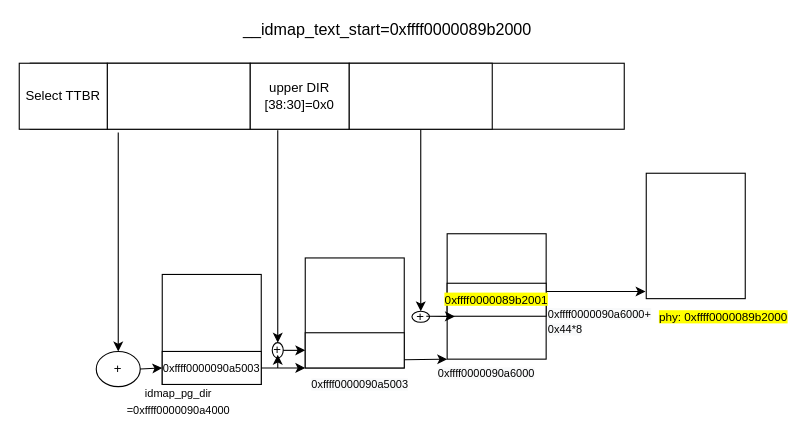
This 809x442 diagram has some shape labels left out. The centre of each missing label's shape, as x and y in pixels:
0x ffff0000090a6003: the point at 354,350
global DIR [47:39]=0x0: the point at 178,95
pmd DIR [29:21]=0x44: the point at 420,95
